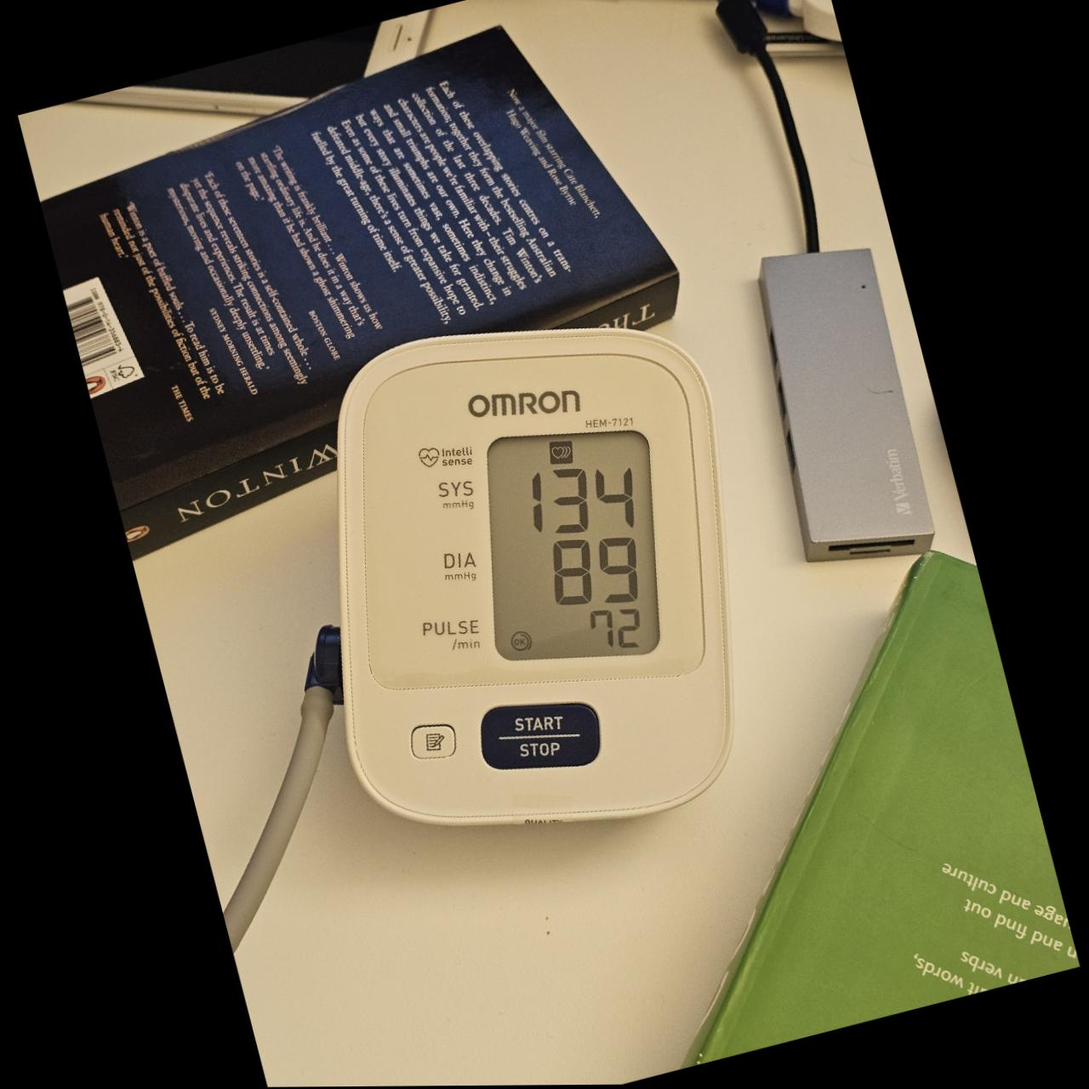lcd display: (441, 396, 704, 694)
